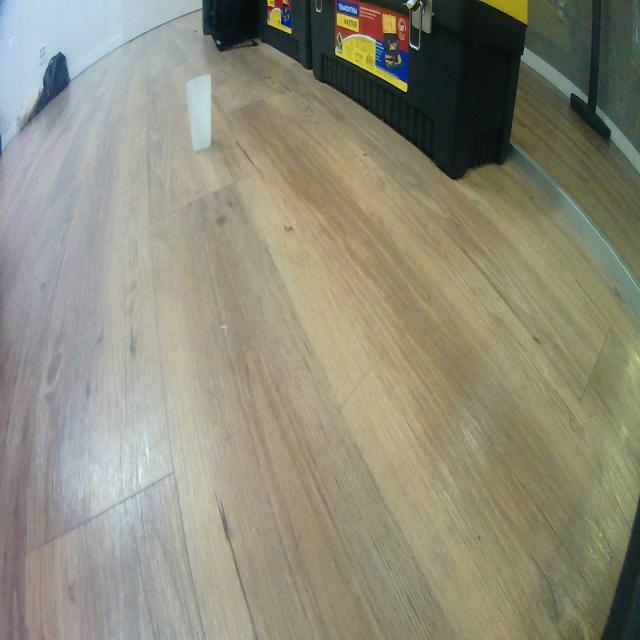erva_daninha: (185, 73, 213, 154)
